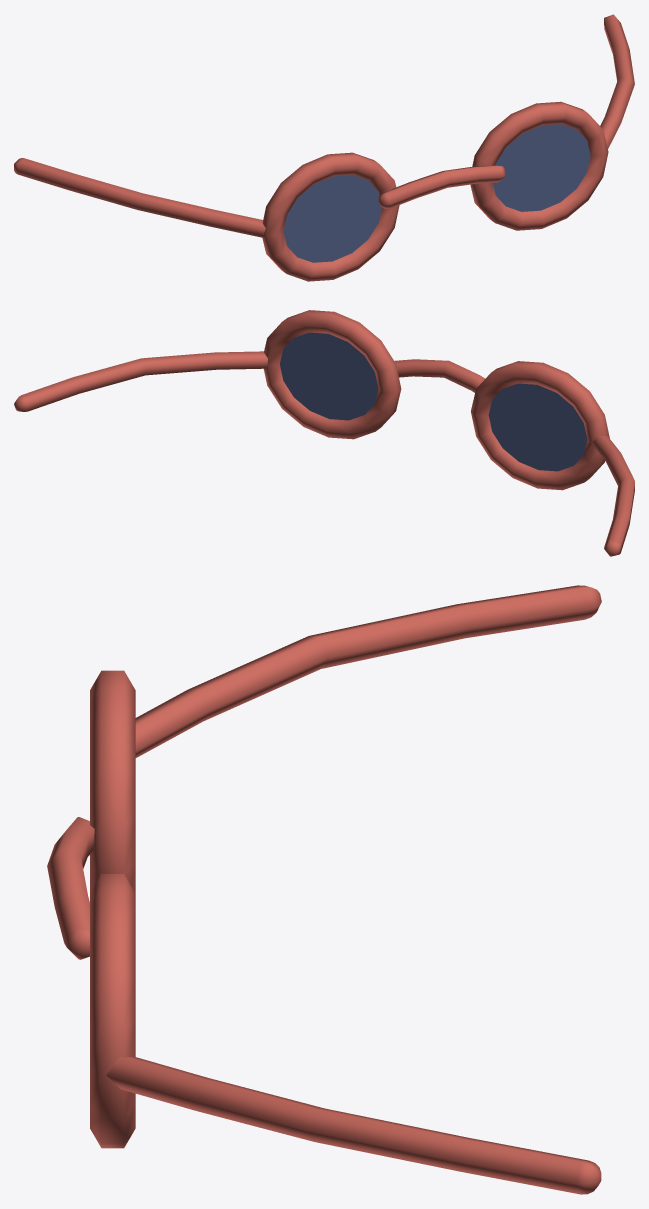
Rendered from flower_sunglasses.glb.
3 views of the same model, one above another, from view 1: azimuth 30°, elevation 25°; view 2: azimuth 150°, elevation 25°; view 3: azimuth 270°, elevation 25° (orthographic). The views are drawn at different scales.
Parts seen in each view (by area): view 1: flower_sunglasses_Head; view 2: flower_sunglasses_Head; view 3: flower_sunglasses_Head.
Part boxes in pixels (<box>): flower_sunglasses_Head: <box>14,14,634,281</box>; flower_sunglasses_Head: <box>14,310,634,556</box>; flower_sunglasses_Head: <box>47,585,601,1194</box>.
Size of the model in its own units: 0.674 by 0.1296 by 0.2681.
